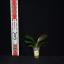leaf: (36, 34, 48, 45), (25, 36, 37, 46), (24, 41, 36, 47), (37, 42, 49, 46), (27, 44, 35, 49), (37, 45, 49, 47), (38, 46, 45, 48)
